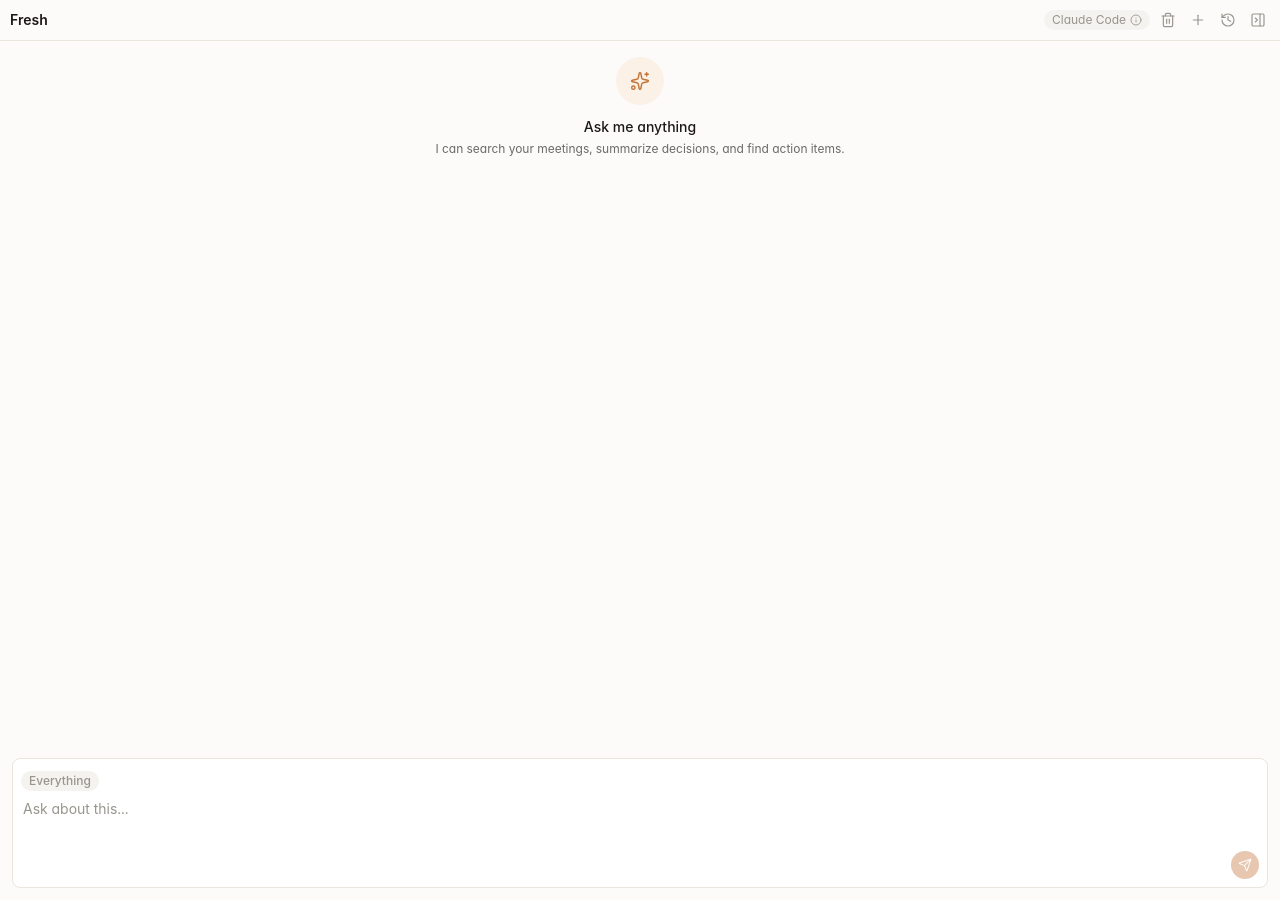
Test: ChatPane › lets a brand-new chat pick its scope, and locks it once the chat exists
The image size is (1280, 900).
Expected: the button "Fresh" is shown, [10,10,1038,30]
Click the button titled "New chat".
click(1198, 20)  # box [1186,8,1210,32]
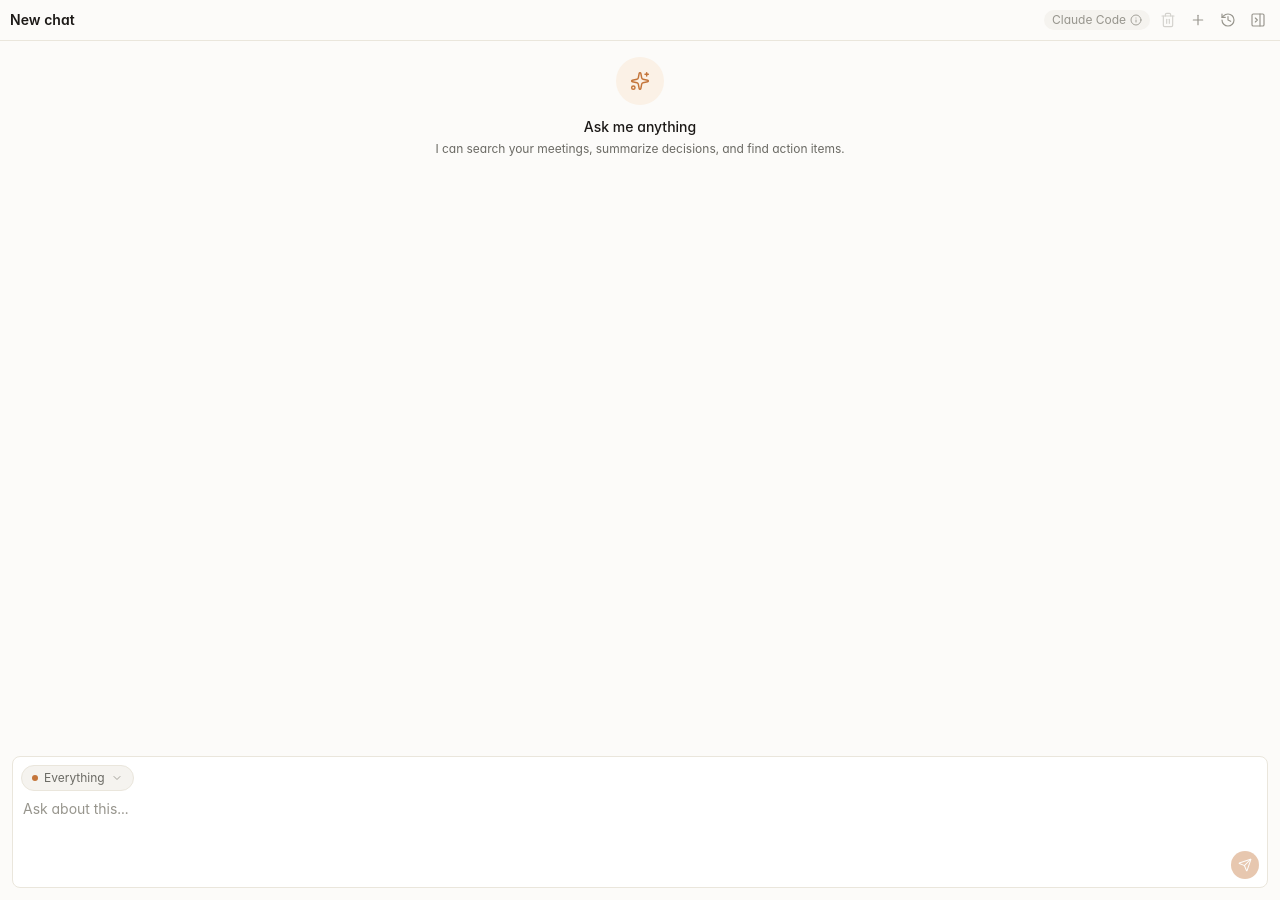
# Empty chat: the scope chip is a control, and opens the picker.
Click the button "Everything".
click(77, 778)  # box [21,765,134,791]
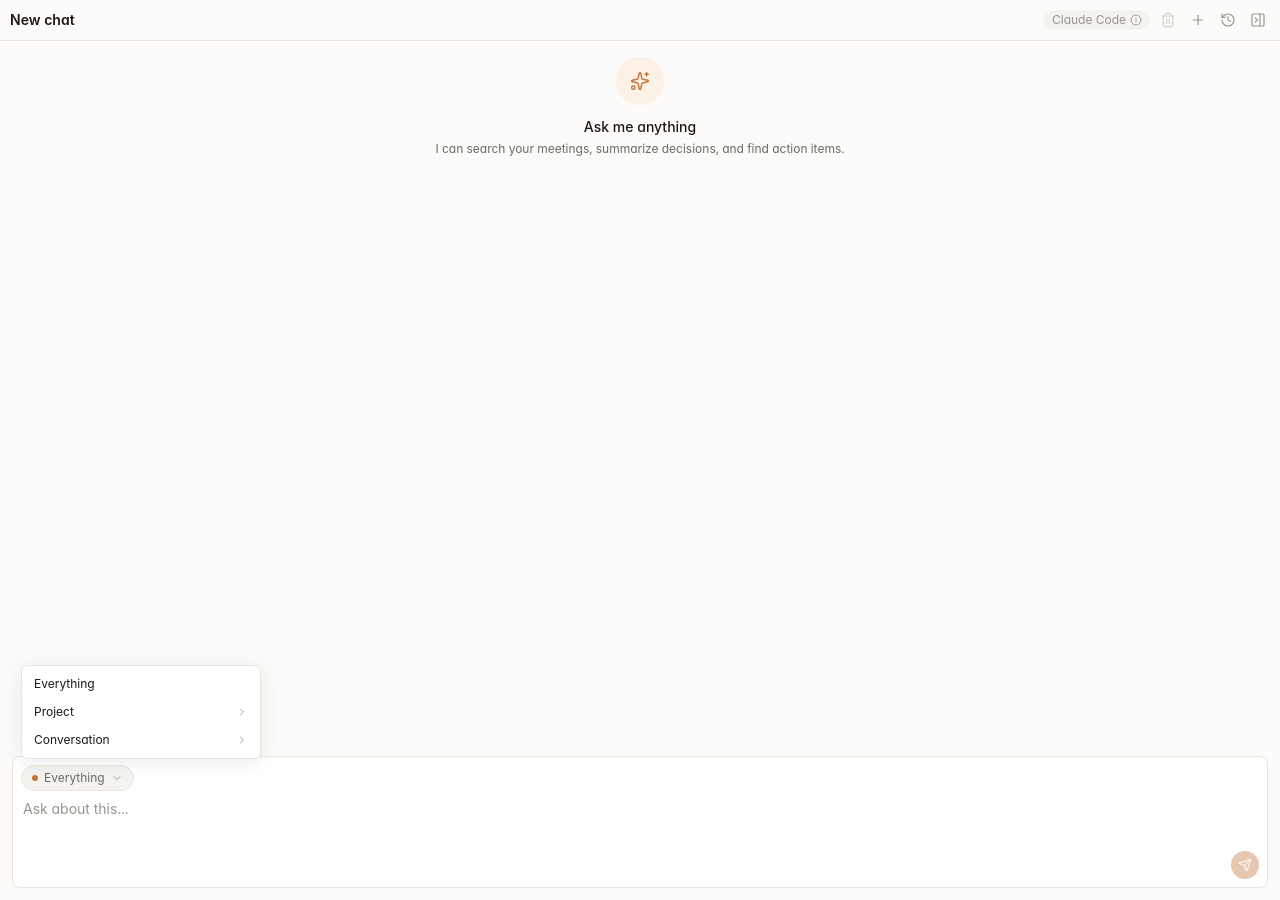
Expected: the text "Project" is shown, [34,704,74,720]
